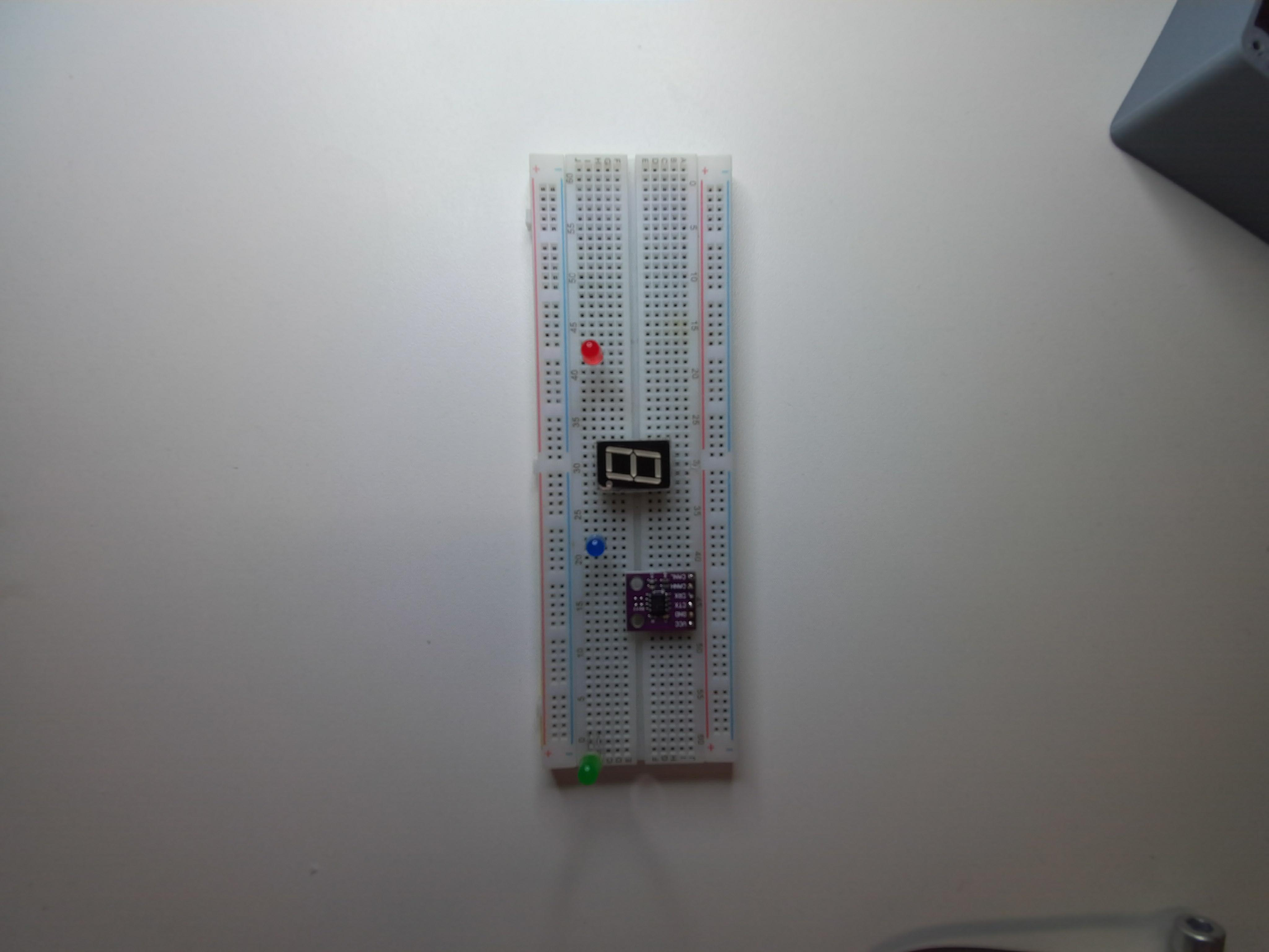base: (521, 148, 739, 794)
blue-led: (581, 535, 610, 564)
digit-board: (596, 436, 675, 500)
green-led: (573, 749, 604, 786)
purple-board: (624, 567, 701, 640)
red-led: (576, 333, 605, 370)
